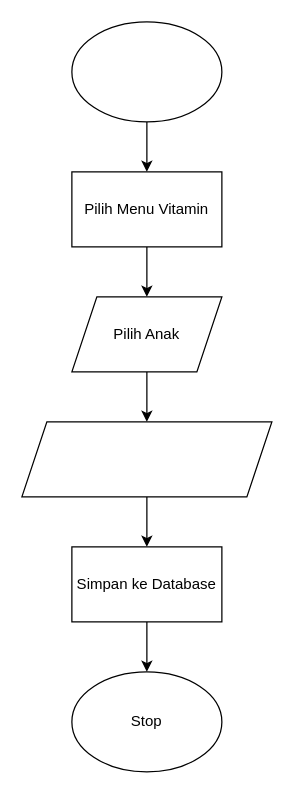
Some shapes in this 294 by 794 pixel diagram are drawn without their labels. Here are the shapes that lost their labels. From the top down, the centre of each, then its label:
At (146,71): "Start".
At (146,459): "Input Data Pemberian Vitamin".
